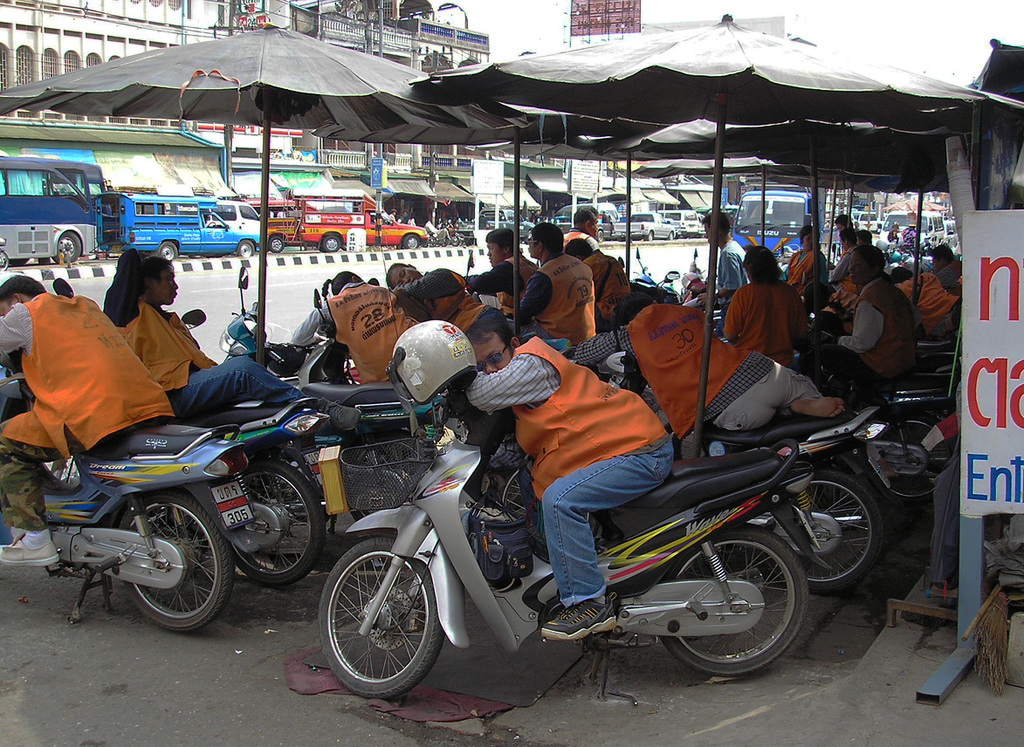Car: (875, 207, 955, 256), (613, 210, 674, 241), (667, 207, 708, 238)
